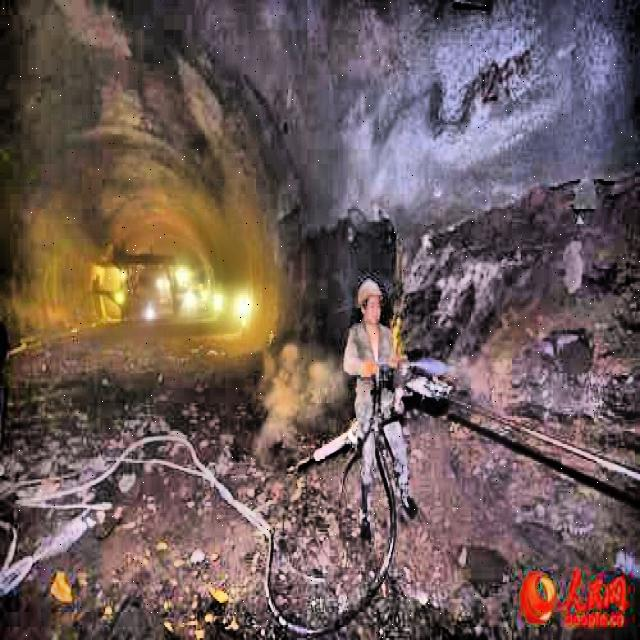helmet: (356, 278, 384, 328)
